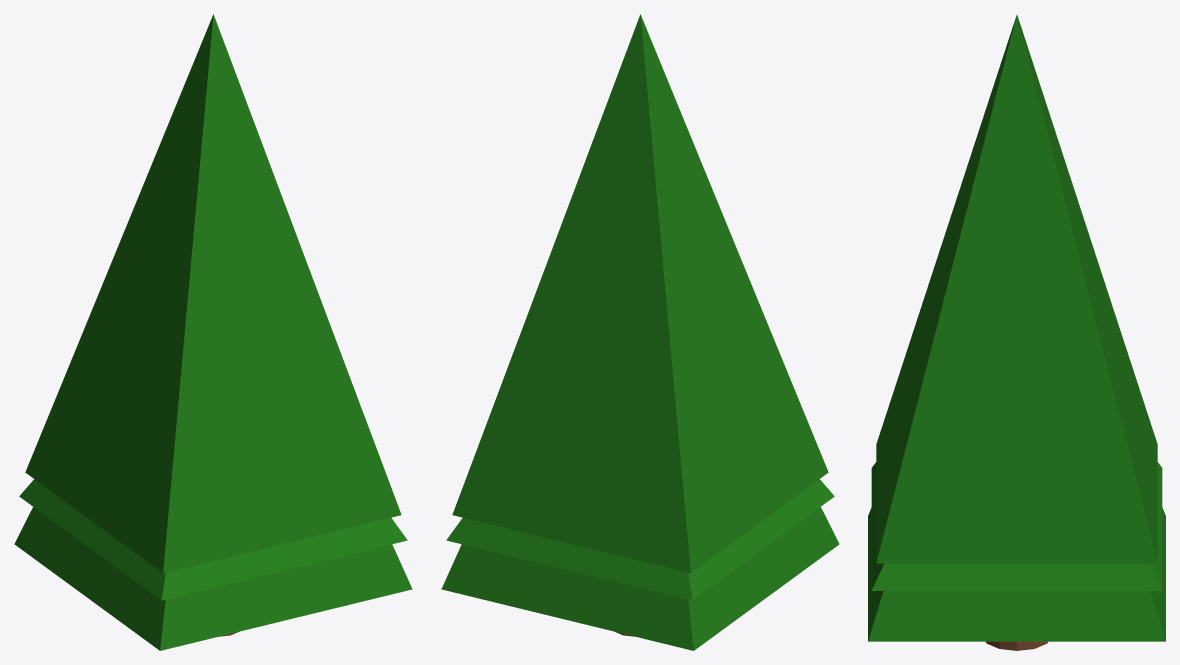
The model's file is Tree_34_summer_mat.fbx.
The picture shows the model from 3 angles, left to right: view 1: azimuth 30°, elevation 25°; view 2: azimuth 150°, elevation 25°; view 3: azimuth 270°, elevation 25°; orthographic projection. The views are drawn at different scales.
Visible parts, largest first — view 1: Tree_34_summer_mat; view 2: Tree_34_summer_mat; view 3: Tree_34_summer_mat.
Part boxes in pixels (x1=…): Tree_34_summer_mat: x1=14, y1=14, x2=412, y2=650; Tree_34_summer_mat: x1=441, y1=14, x2=839, y2=650; Tree_34_summer_mat: x1=868, y1=15, x2=1165, y2=650.
Size of the model in its own units: 3.35 by 7.72 by 3.35.
